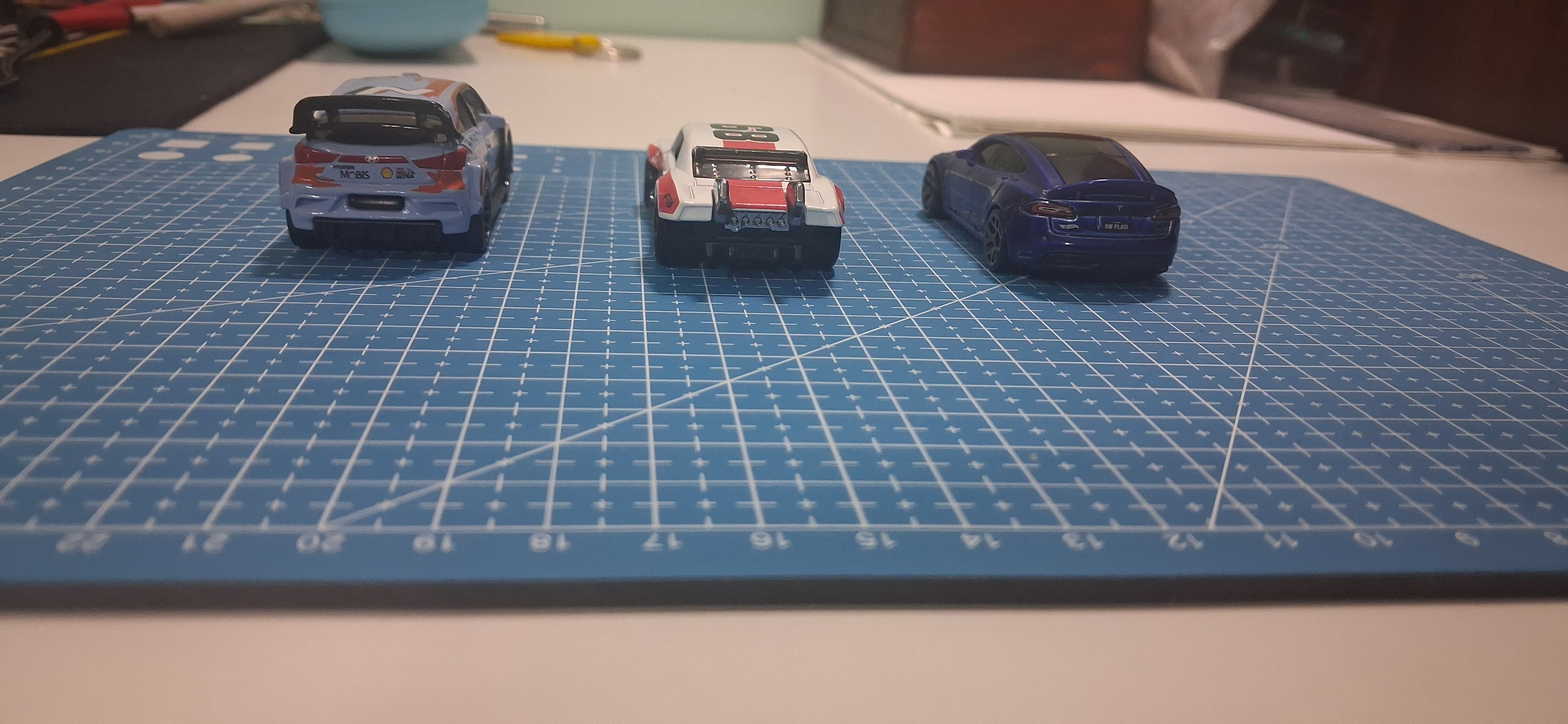Camaro: (613, 94, 885, 305)
Hyundai_I20_WRC: (242, 32, 548, 280)
Tesla_Model_S_Plaid: (913, 128, 1205, 329)
